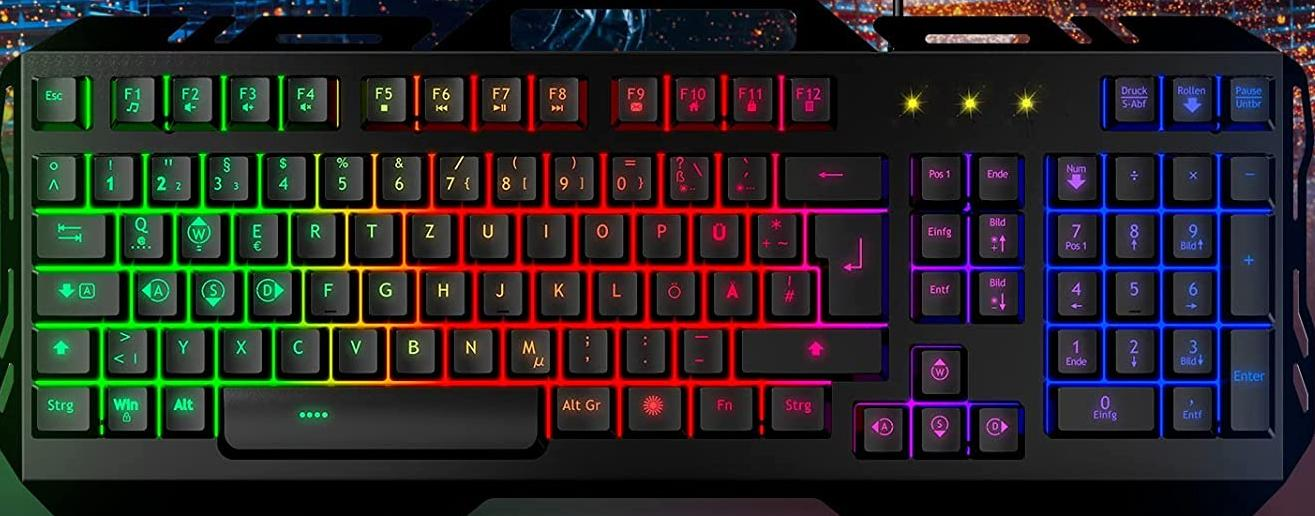0: (606, 150, 652, 200)
1: (89, 149, 134, 201)
2: (146, 149, 192, 201)
3: (203, 149, 249, 201)
4: (262, 149, 307, 201)
5: (318, 149, 365, 201)
6: (376, 149, 423, 201)
7: (434, 149, 479, 200)
8: (491, 149, 537, 201)
9: (549, 149, 595, 200)
a: (131, 264, 178, 316)
accent: (722, 149, 766, 199)
ae: (709, 265, 752, 314)
alt-left: (161, 379, 206, 431)
altgr-right: (549, 379, 611, 430)
b: (389, 321, 435, 372)
c: (275, 321, 320, 372)
caret: (31, 150, 76, 200)
comma: (564, 322, 607, 371)
d: (246, 264, 292, 316)
del: (779, 150, 882, 199)
e: (234, 208, 279, 258)
enter: (808, 205, 883, 317)
f: (305, 265, 349, 314)
g: (361, 264, 407, 315)
h: (420, 265, 464, 314)
hash: (765, 264, 810, 315)
i: (522, 207, 565, 255)
j: (478, 265, 521, 313)
k: (535, 264, 580, 314)
keyboard: (6, 39, 1308, 494)
l: (593, 265, 636, 314)
less: (102, 321, 148, 373)
m: (504, 322, 550, 373)
minus: (677, 322, 722, 371)
n: (448, 322, 493, 371)
o: (579, 207, 624, 256)
oe: (650, 265, 695, 314)
p: (637, 207, 682, 256)
plus: (753, 206, 796, 257)
point: (621, 322, 665, 371)
q: (118, 207, 164, 258)
r: (291, 207, 337, 257)
s: (189, 264, 235, 316)
shift-left: (31, 323, 91, 373)
shift-lock: (31, 265, 122, 316)
shift-right: (738, 322, 881, 373)
space: (219, 377, 542, 452)
ss: (665, 150, 710, 200)
strg-left: (30, 379, 90, 430)
strg-right: (766, 379, 827, 430)
t: (349, 206, 393, 256)
tab: (32, 208, 106, 257)
u: (464, 207, 509, 256)
ue: (694, 207, 738, 257)
v: (332, 321, 378, 372)
w: (175, 206, 222, 258)
x: (218, 321, 263, 372)
y: (161, 322, 205, 372)
z: (406, 207, 451, 256)
